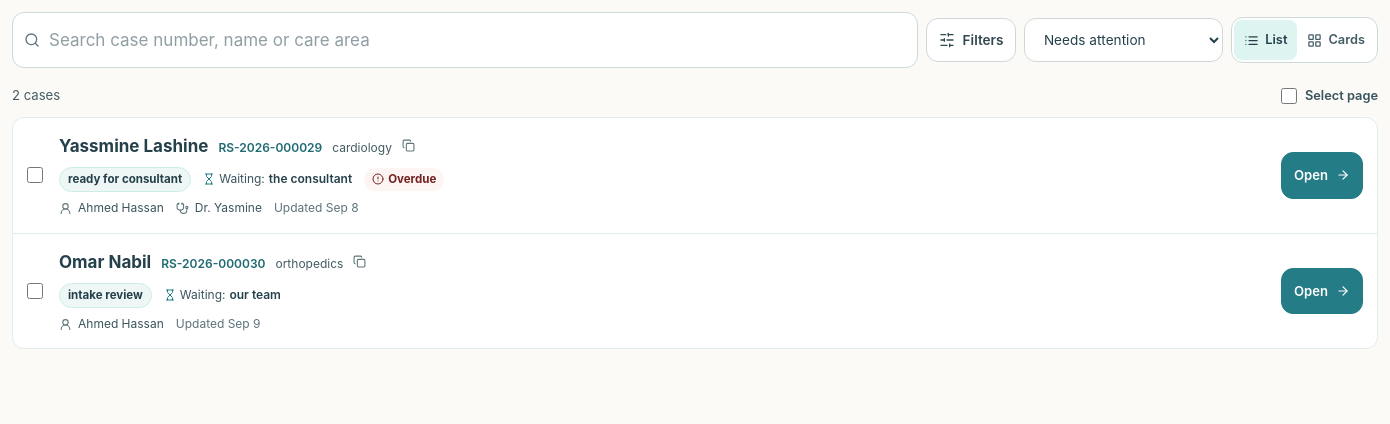
Test: CaseQueue › reveals bulk actions only after a case is selected
Expected: the text "1 selected" is not shown
Click the checkbox named "selected RS-2026-000029".
click(35, 175)  # box [27,167,43,183]
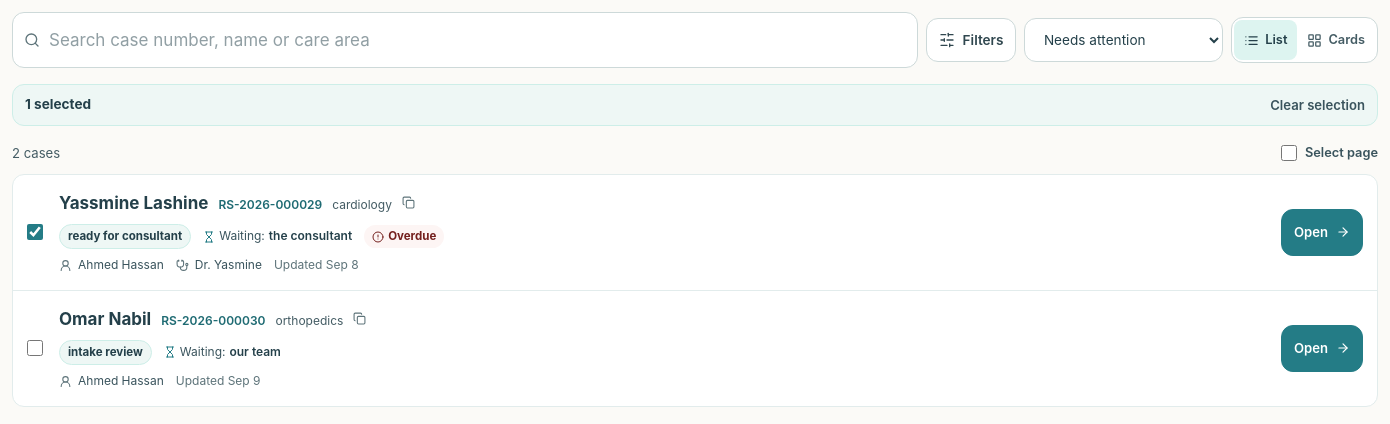
Expected: the text "1 selected" is shown, [25,94,91,117]
Click the button "Clear selection".
click(1318, 105)  # box [1270,94,1365,116]
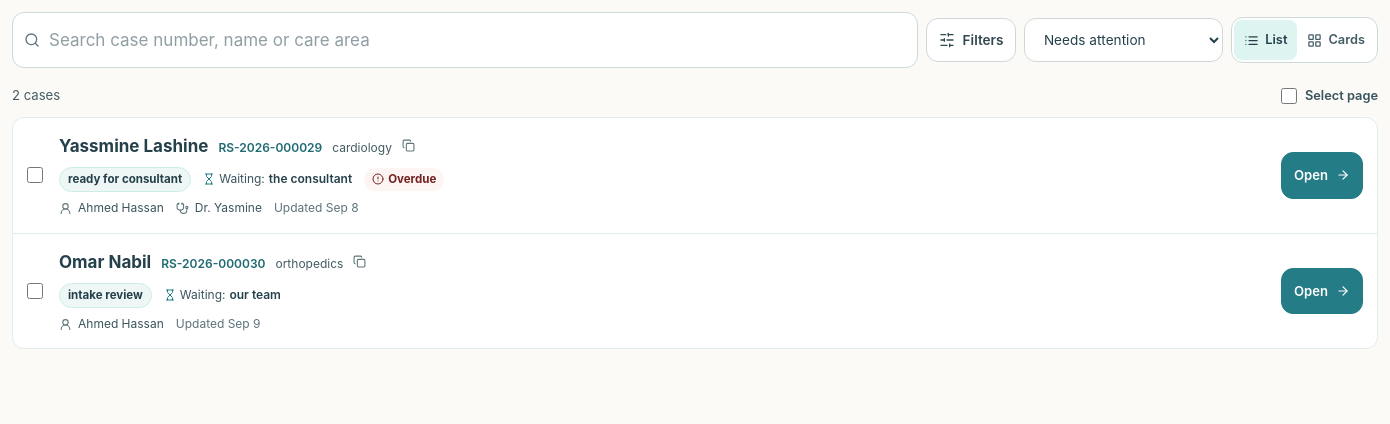
Expected: the text "1 selected" is gone
